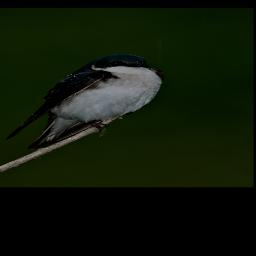Swallow: (5, 51, 168, 150)
